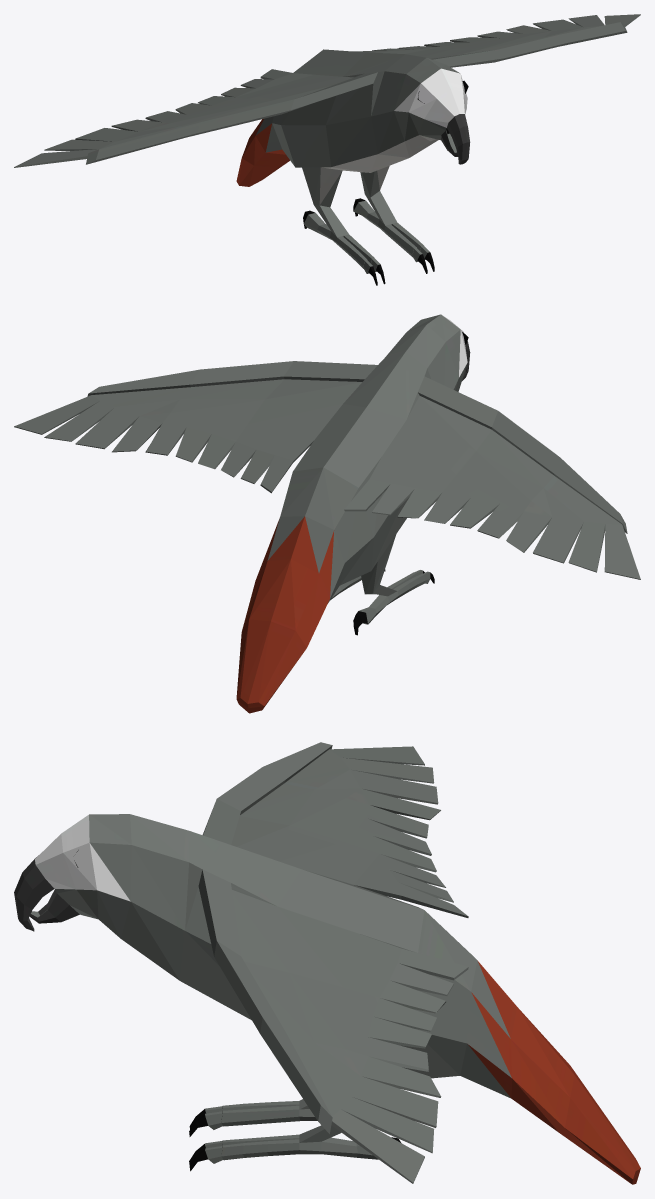
Rendered from prop_pa_bird_2.glb.
3 views of the same model, one above another, from view 1: azimuth 30°, elevation 25°; view 2: azimuth 150°, elevation 25°; view 3: azimuth 270°, elevation 25° (orthographic). The views are drawn at different scales.
Visible parts, largest first — view 1: 24birdFinal; view 2: 24birdFinal; view 3: 24birdFinal.
Part boxes in pixels (box(x1,y1,x2,y2)): 24birdFinal: box(14, 14, 640, 285); 24birdFinal: box(14, 314, 640, 713); 24birdFinal: box(14, 742, 640, 1184).
Bounding box in the file's own units: 0.6063 × 0.2394 × 0.3679.
Materials: 1 (1 with a texture image).
